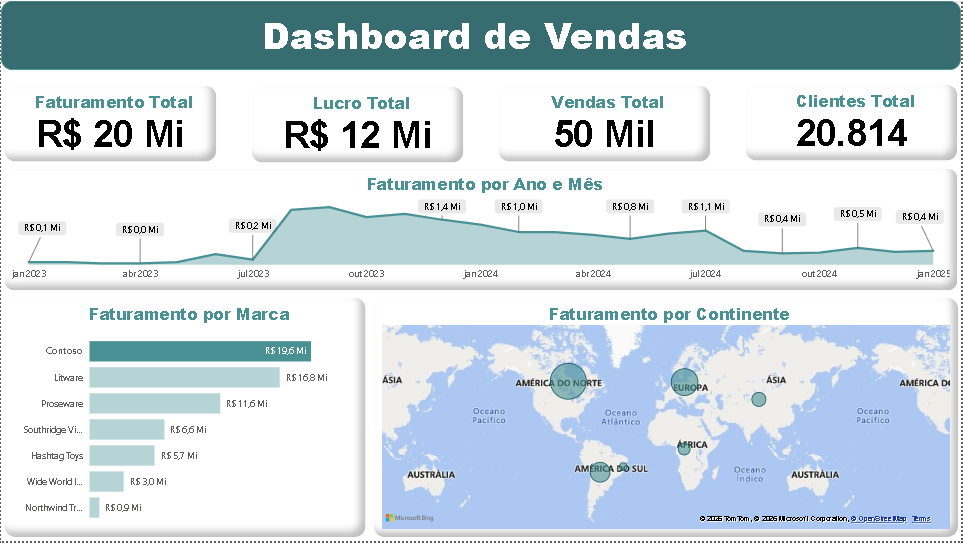

The page's visual inventory and layout, read from the dashboard file:
{"tool":"powerbi","page":{"name":"Página 1","canvas":[1280,720],"ordinal":0},"visuals":[{"type":"textbox","box":[0,0,1280,92.4],"z":0},{"type":"cardVisual","title":"Faturamento Total","fields":{"Data":["Sum(Vendas.Faturamento)"]},"box":[0,107.4,291.8,111.5],"z":1000},{"type":"cardVisual","title":"Vendas Total","fields":{"Data":["Sum(Vendas.Qtd. Vendida)"]},"box":[658.7,107.4,291.8,111.5],"z":2000},{"type":"cardVisual","title":"Lucro Total","fields":{"Data":["Sum(Vendas.Lucro Venda)"]},"box":[329.3,109.3,292,110.7],"z":3000},{"type":"cardVisual","title":"Clientes Total","fields":{"Data":["Count(Vendas.Codigo Cliente)"]},"box":[988,106.7,292,110.7],"z":4000},{"type":"barChart","fields":{"Category":["Vendas.Marca"],"Y":["Sum(Vendas.Faturamento)"]},"box":[0,390.9,491.4,328.9],"z":5000},{"type":"areaChart","fields":{"Y":["Sum(Vendas.Faturamento)"],"Category":["Vendas.Data da Venda.Variation.Hierarquia de datas.Ano","Vendas.Data da Venda.Variation.Hierarquia de datas.Mês"]},"box":[0,218.8,1280,172],"z":6000},{"type":"map","fields":{"Category":["Vendas.Continente"],"Size":["Sum(Vendas.Faturamento)"]},"box":[491.4,390.9,788.6,328.9],"z":7000}]}

Visuals, with their boxes in screenshot pixels (x1, y1, x2, y2), scaled from the page's 1280x720 canvas onto the 963x544 screenshot:
textbox: BBox(0, 0, 962, 70)
"Faturamento Total" cardVisual: BBox(0, 81, 220, 165)
"Vendas Total" cardVisual: BBox(496, 81, 715, 165)
"Lucro Total" cardVisual: BBox(248, 83, 467, 166)
"Clientes Total" cardVisual: BBox(743, 81, 962, 164)
barChart - Vendas.Marca x Sum(Vendas.Faturamento): BBox(0, 295, 370, 543)
areaChart - Sum(Vendas.Faturamento) x Vendas.Data da Venda.Variation.Hierarquia de datas.Ano: BBox(0, 165, 962, 295)
map - Vendas.Continente x Sum(Vendas.Faturamento): BBox(370, 295, 962, 543)
